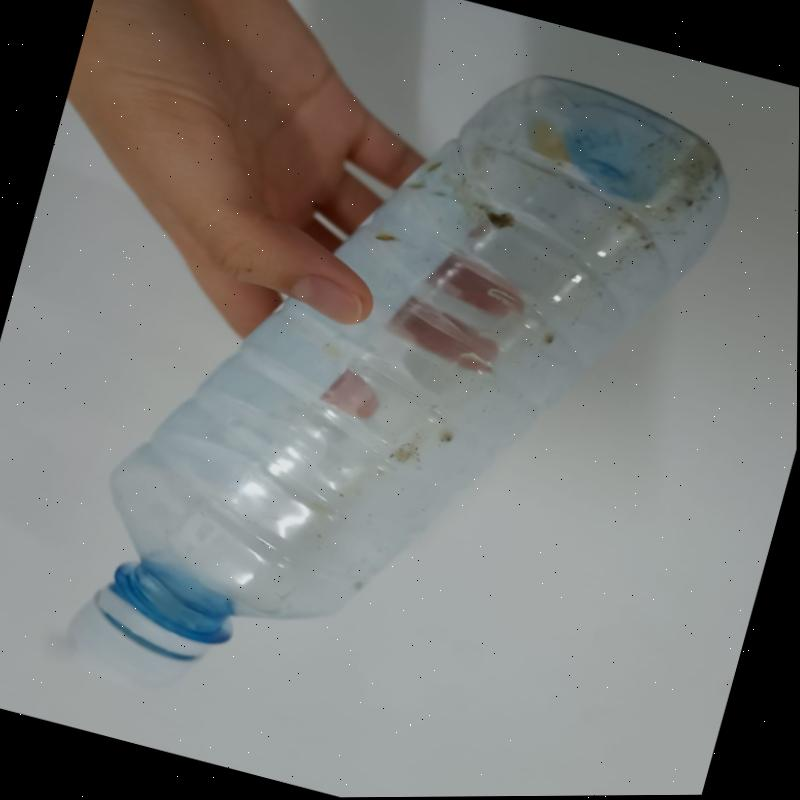botella: (61, 0, 762, 800)
